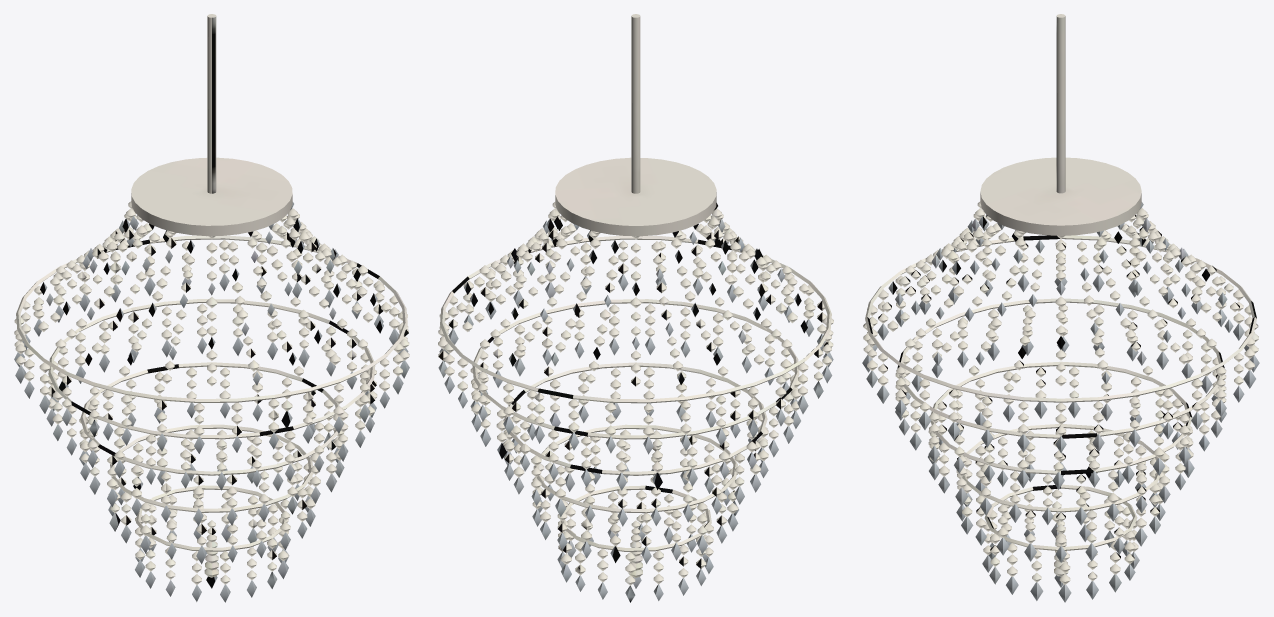
The model's file is bead_chandelier.glb.
3 renders of one model, left to right at view 1: azimuth 30°, elevation 25°; view 2: azimuth 150°, elevation 25°; view 3: azimuth 270°, elevation 25°, orthographic.
Visible parts, largest first — view 1: bead_chandelier; view 2: bead_chandelier; view 3: bead_chandelier.
Part boxes in pixels (x1,y1,x2,y2): bead_chandelier: (14,14,409,602); bead_chandelier: (438,14,833,602); bead_chandelier: (862,14,1259,602).
Size of the model in its own units: 1.23 by 1.95 by 1.23.
Materials: 1 (1 with a texture image).
